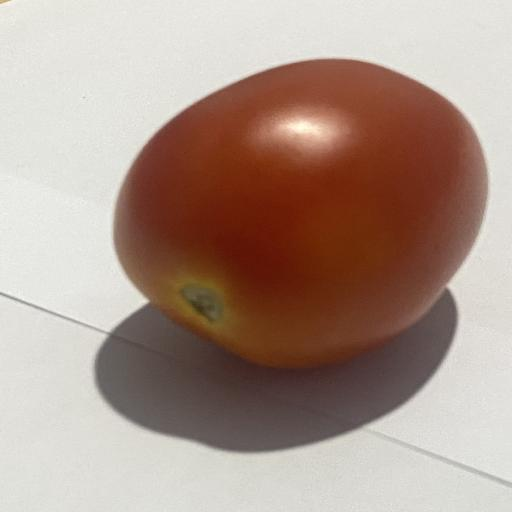ripe: (114, 59, 487, 368)
